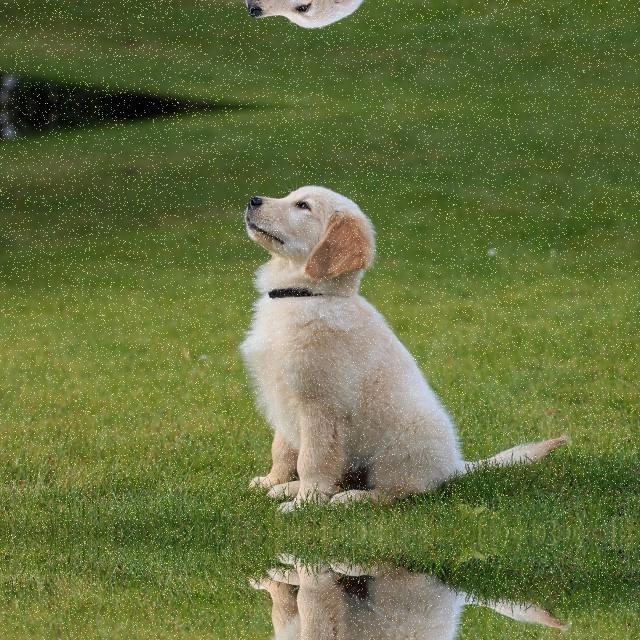dog: (208, 168, 464, 516), (208, 548, 465, 640), (208, 0, 465, 44)
